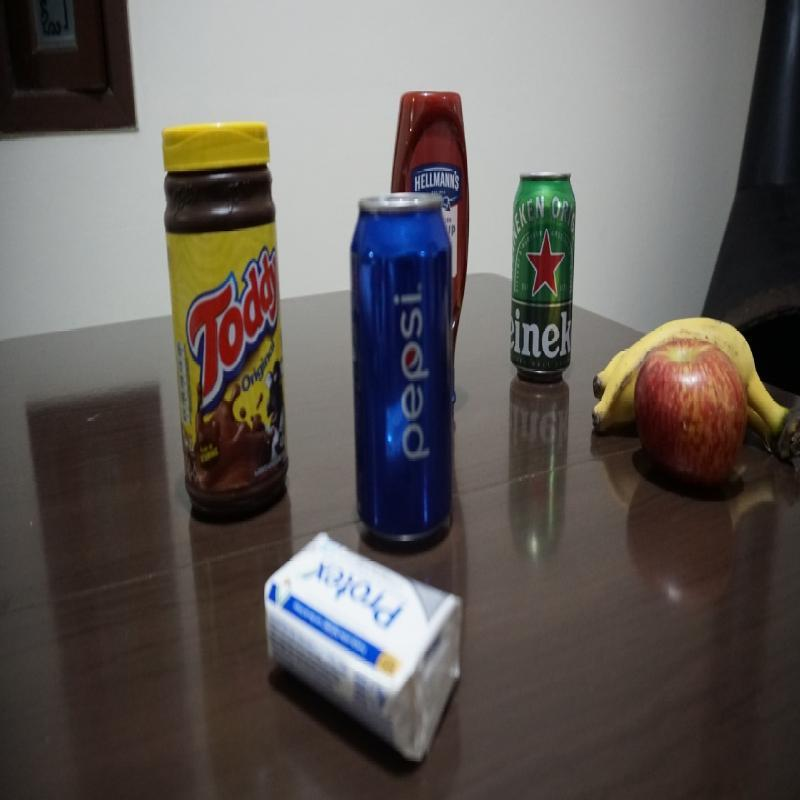Apple: (640, 347, 751, 485)
Beer can: (512, 170, 576, 382)
Chocolate Powder: (162, 120, 291, 508)
Ketchup: (394, 90, 469, 194)
Soap: (267, 529, 465, 749)
Soda can: (348, 196, 454, 528)
